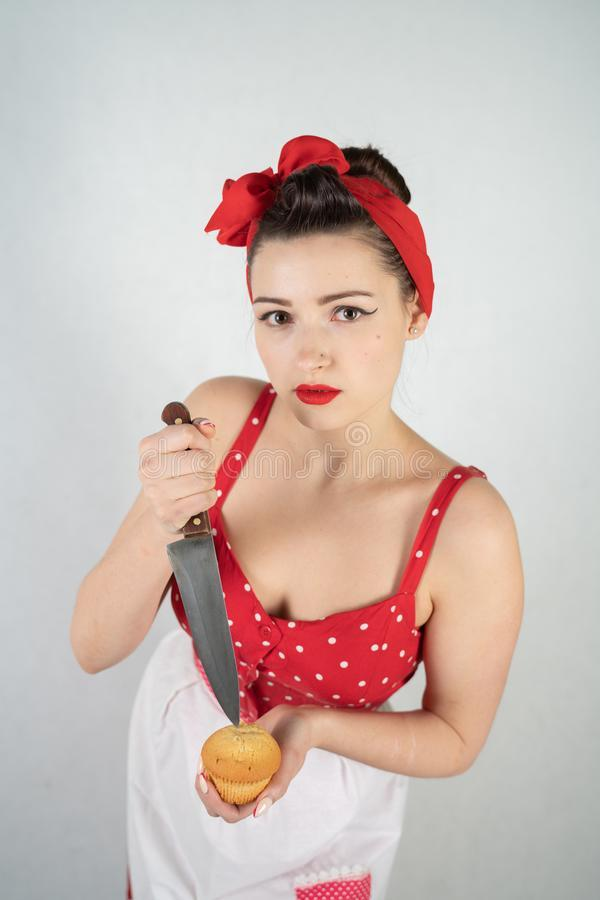criminal: (69, 130, 528, 900)
weapon: (158, 400, 248, 732)
